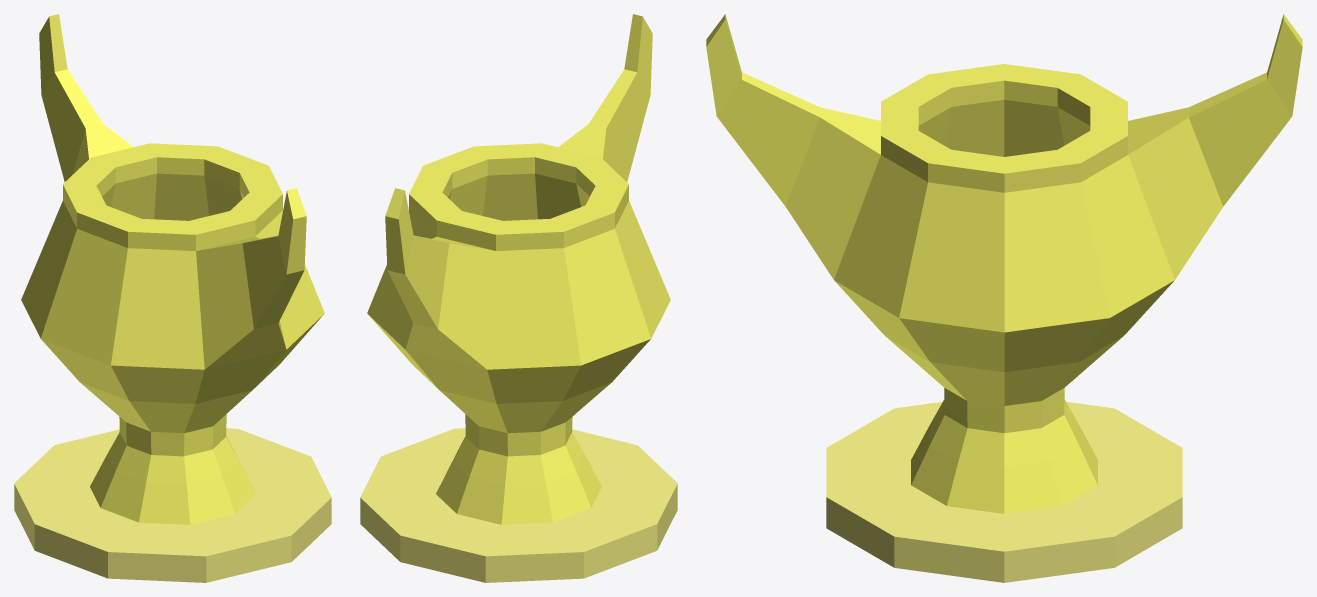
The model's file is Cup.fbx.
The picture shows the model from 3 angles, left to right: view 1: azimuth 30°, elevation 25°; view 2: azimuth 150°, elevation 25°; view 3: azimuth 270°, elevation 25°; orthographic projection. The views are drawn at different scales.
Visible parts, largest first — view 1: Cup; view 2: Cup; view 3: Cup.
Part boxes in pixels (<box>): Cup: <box>14,14,331,582</box>; Cup: <box>360,14,677,582</box>; Cup: <box>706,14,1302,582</box>.
Bounding box in the file's own units: 200 × 287 × 318.
